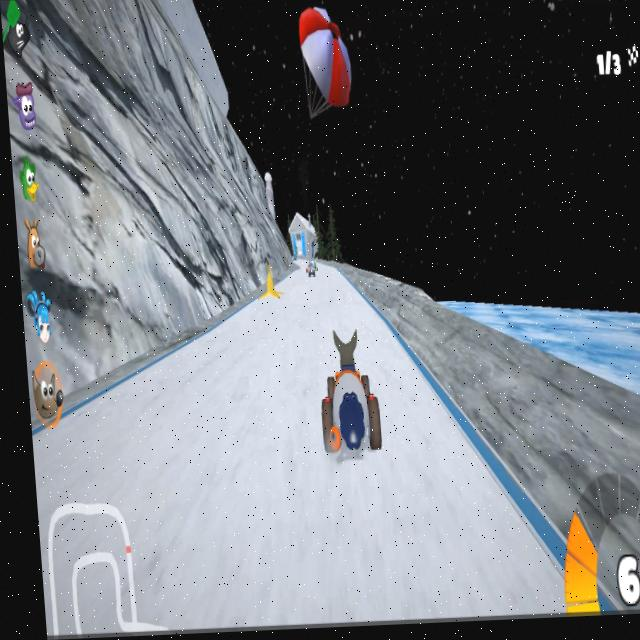enemy_kart: (306, 261, 319, 277)
obstacle: (255, 264, 282, 307)
player_kart: (312, 326, 384, 473)
track: (37, 428, 260, 635), (245, 453, 520, 585), (231, 308, 321, 468), (117, 370, 242, 438), (285, 275, 358, 314), (185, 334, 237, 364)
